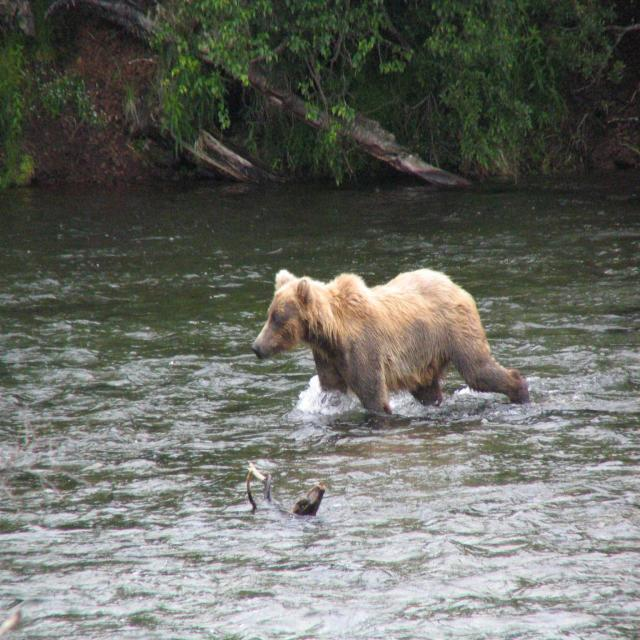bear face: (251, 268, 528, 411)
